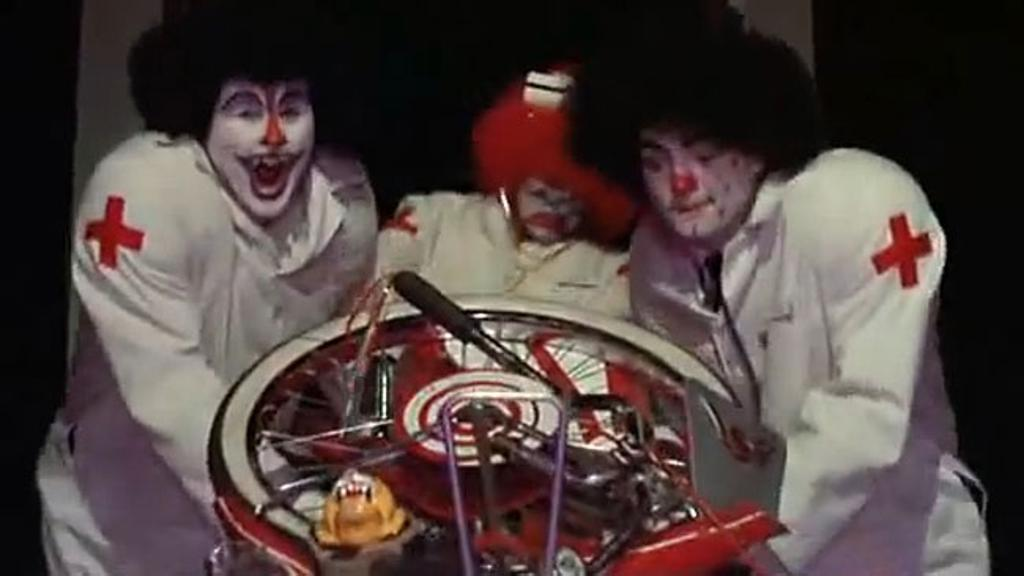face: (212, 72, 312, 220), (640, 112, 754, 234), (512, 128, 598, 244)
